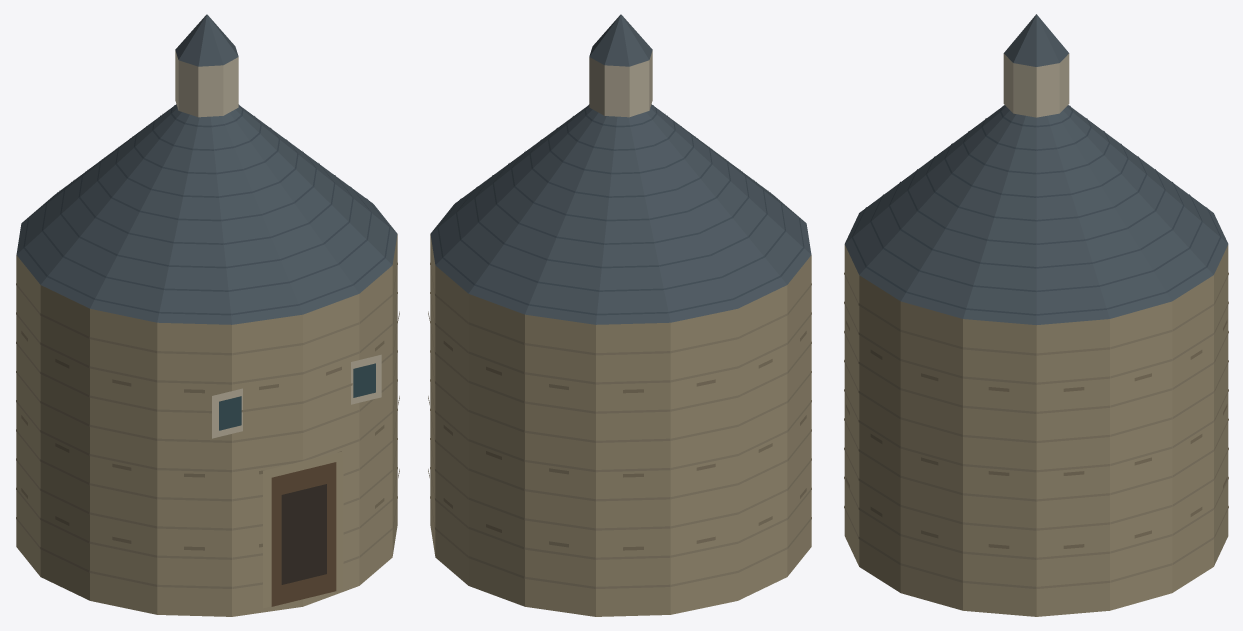
File: 02-stone-dovecote.glb
3 views of the same model, side by side, from view 1: azimuth 30°, elevation 25°; view 2: azimuth 150°, elevation 25°; view 3: azimuth 270°, elevation 25° (orthographic).
Parts seen in each view (by area): view 1: Cotswold dovecote; view 2: Cotswold dovecote; view 3: Cotswold dovecote.
Boxes of the visible parts, x1,y1,x2,y2 form: Cotswold dovecote: (16, 14, 399, 616); Cotswold dovecote: (428, 14, 811, 616); Cotswold dovecote: (844, 14, 1228, 616).
Bounding box in the file's own units: 0.6214 × 0.93 × 0.6247.
